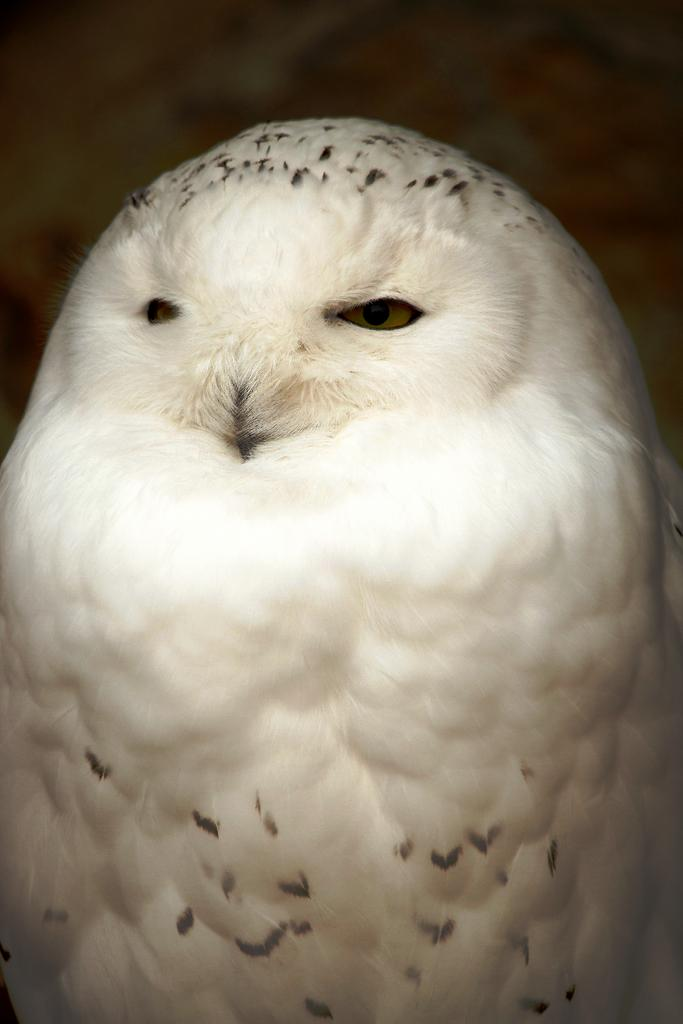Owl: (0, 110, 682, 1024)
